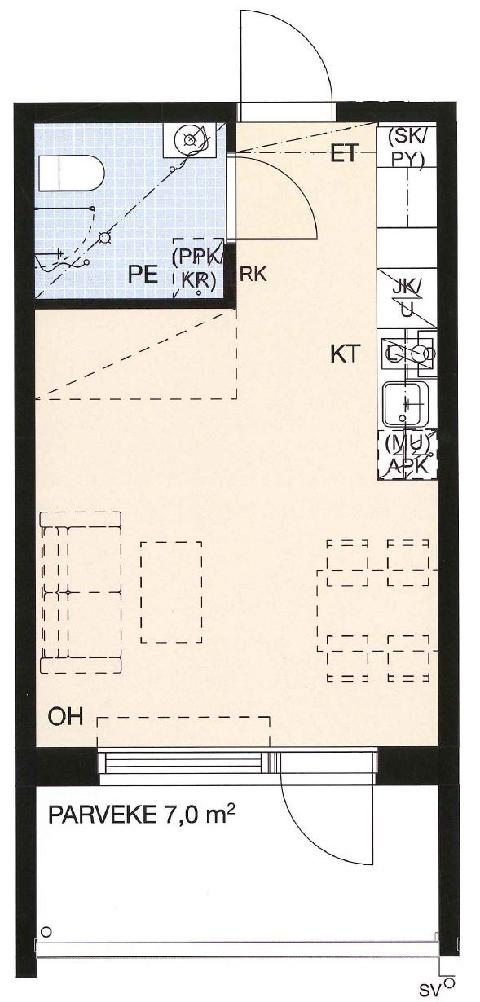door: (272, 748, 384, 877), (233, 5, 343, 123), (222, 153, 319, 247)
window: (97, 742, 276, 784)
zone: (35, 116, 434, 742), (38, 781, 438, 942), (31, 119, 224, 293)
